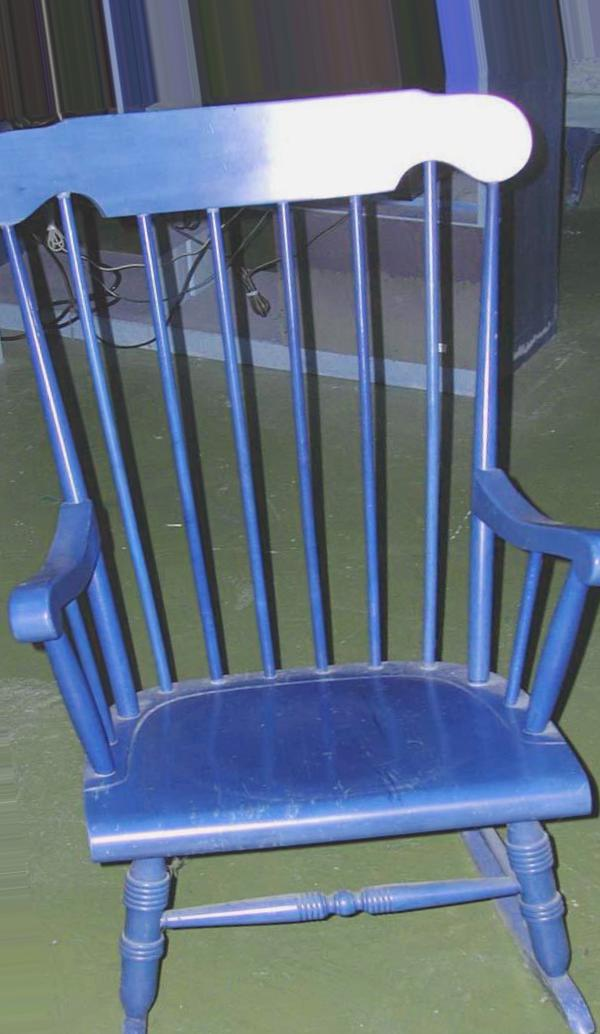chair: (1, 89, 600, 1033)
